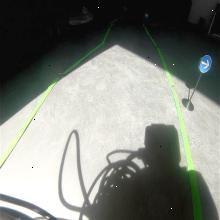right: (198, 55, 212, 73)
